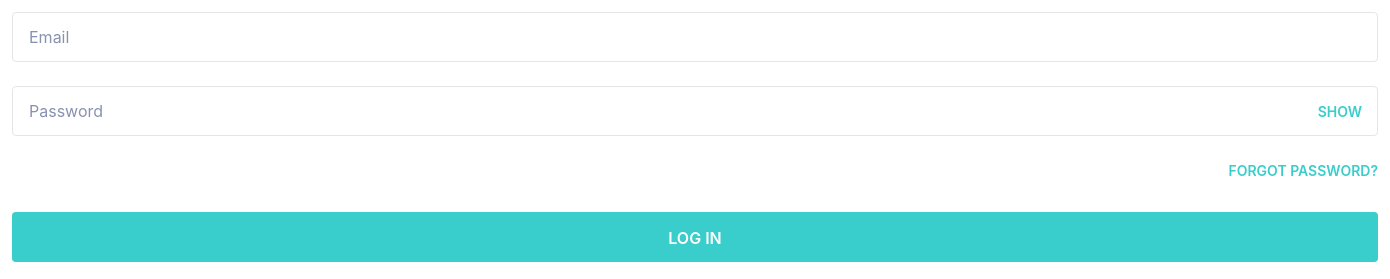
Test: LoginForm › submits with valid email and password
Type "test@example.com" into the field with test id "email-input".
click(695, 37); type("test@example.com")  # box [12, 12, 1378, 62]
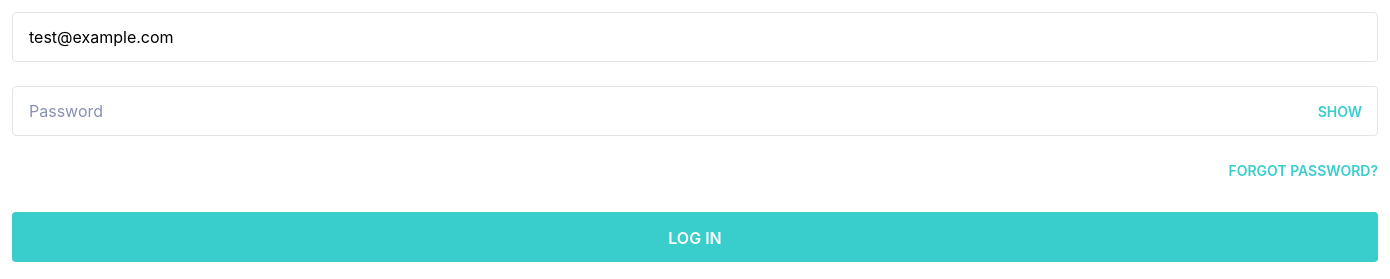
Type "12345678" into the password field with test id "password-input".
click(695, 111); type("12345678")  # box [12, 86, 1378, 136]
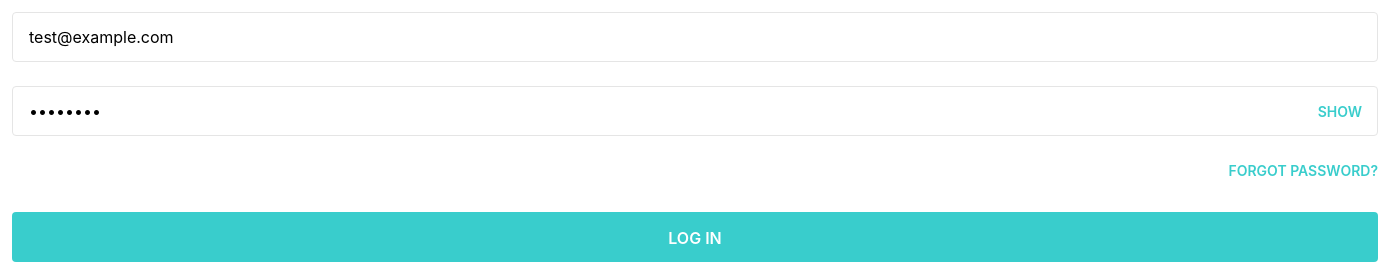
Click the button with test id "login-button".
click(695, 237)  # box [12, 212, 1378, 262]
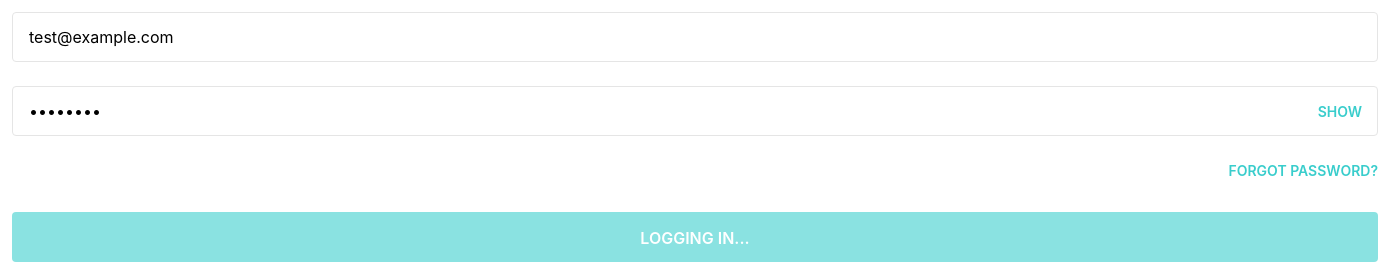
Expected: the button with test id "login-button" reads "LOGGING IN...", [12, 212, 1378, 262]
